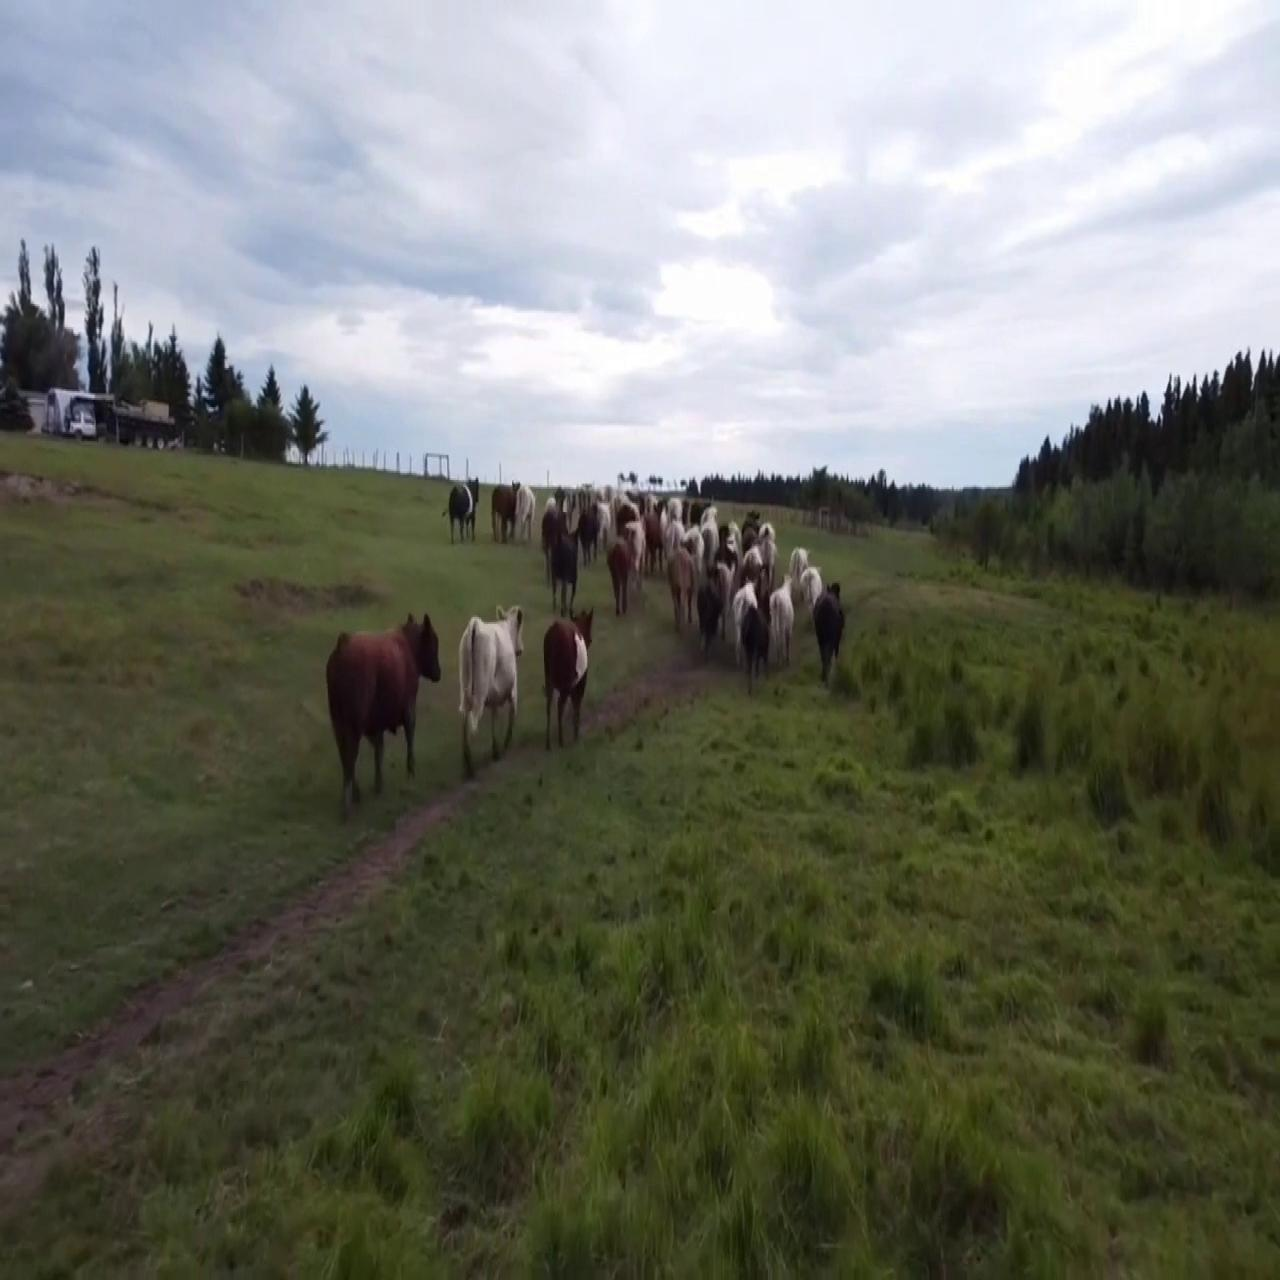cow: (319, 611, 435, 811), (454, 608, 523, 778), (542, 608, 594, 750), (806, 576, 857, 720), (542, 502, 583, 622), (727, 601, 775, 699), (602, 533, 642, 633), (665, 537, 696, 636), (769, 560, 794, 674), (443, 477, 478, 545), (729, 574, 758, 647), (492, 472, 518, 549), (517, 476, 539, 539), (802, 560, 823, 618)
